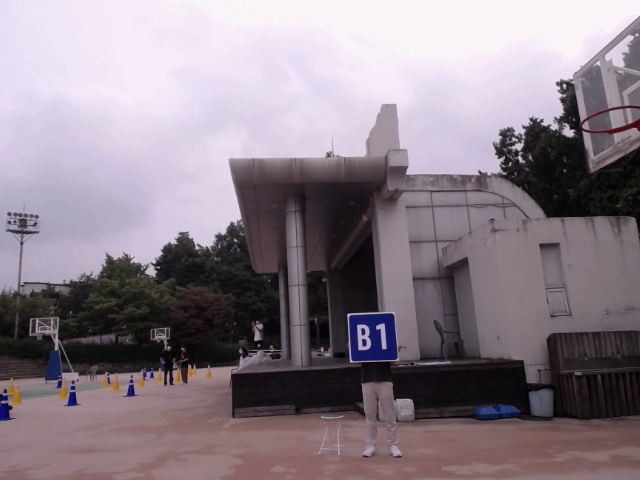delivery_b1: (348, 312, 399, 362)
